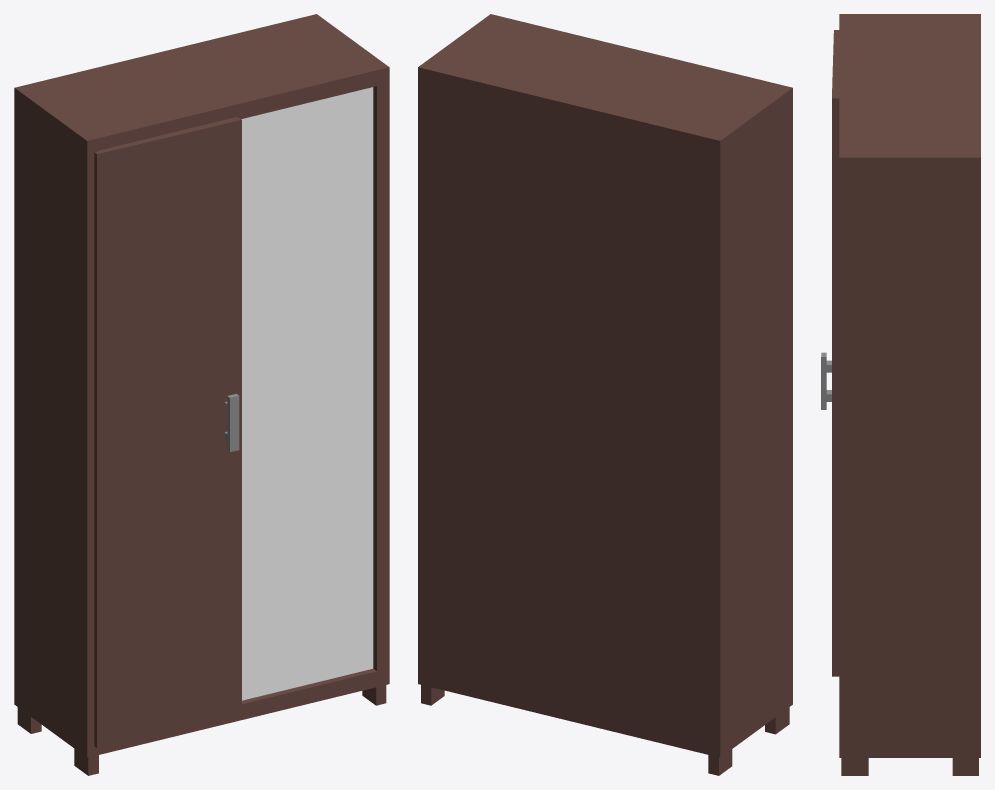
Rendered from Bedroom Wardrobe.glb.
3 renders of one model, left to right at view 1: azimuth 30°, elevation 25°; view 2: azimuth 150°, elevation 25°; view 3: azimuth 270°, elevation 25°, orthographic. The views are drawn at different scales.
Visible parts, largest first — view 1: Wardrobe; view 2: Wardrobe; view 3: Wardrobe.
Boxes of the visible parts, box(x1,y1,x2,y2) form: Wardrobe: box(14, 14, 389, 775); Wardrobe: box(418, 14, 792, 775); Wardrobe: box(821, 14, 980, 775).
Bounding box in the file's own units: 1.06 × 2.12 × 0.4963.
2 materials, 1 textured.
